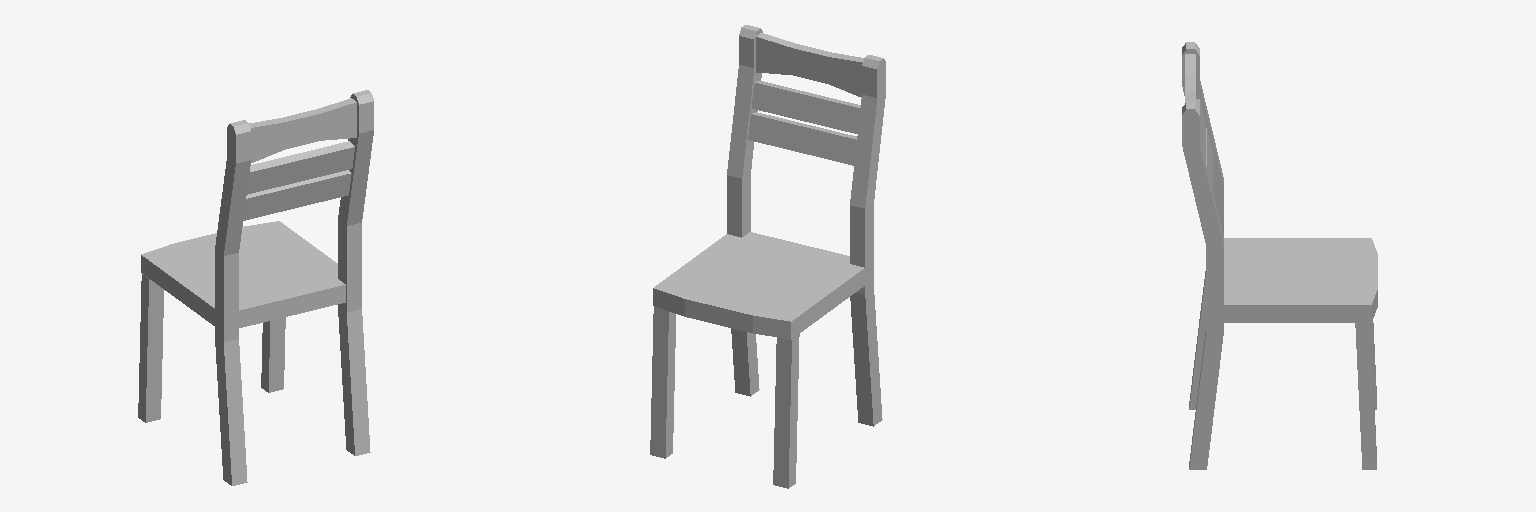
File: chair.obj
The picture shows the model from 3 angles: view 1: azimuth 30°, elevation 25°; view 2: azimuth 150°, elevation 25°; view 3: azimuth 270°, elevation 25°; orthographic projection.
Parts seen in each view (by area): view 1: Box02; view 2: Box02; view 3: Box02.
Boxes of the visible parts, x1,y1,x2,y2 form: Box02: [138, 90, 373, 485]; Box02: [650, 25, 885, 488]; Box02: [1182, 42, 1377, 469].
Size of the model in its own units: 45 by 112 by 55.3.